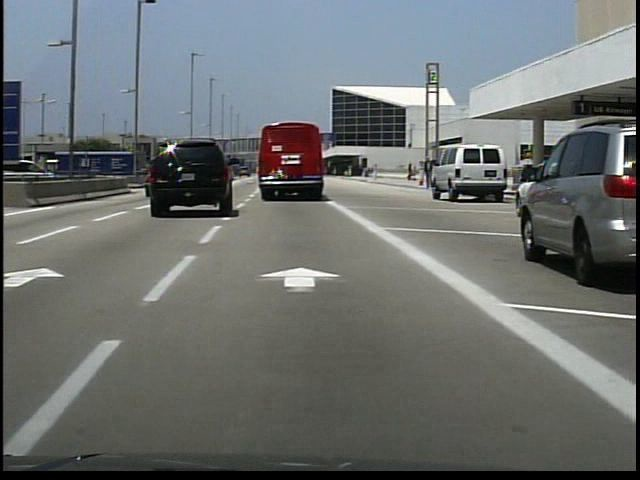person: (423, 158, 434, 193)
